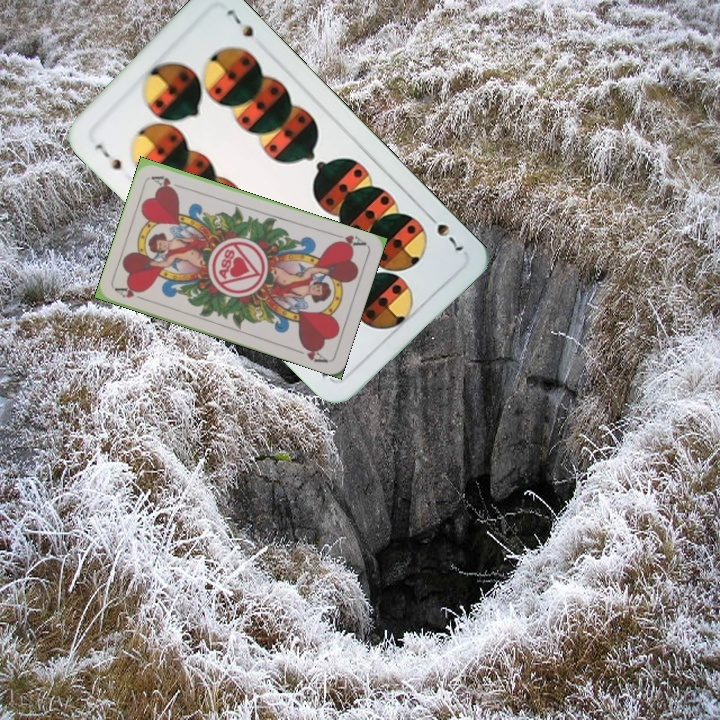HA: (329, 229, 369, 251), (112, 283, 151, 304)
S7: (422, 208, 466, 254), (91, 139, 124, 173)
